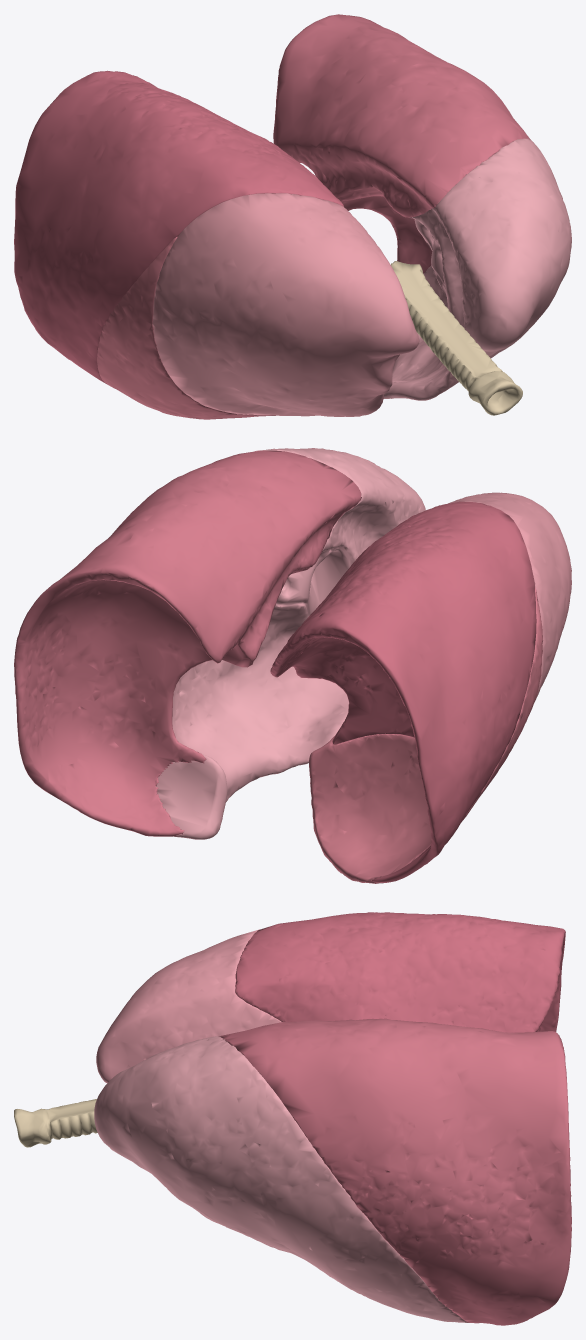
File: lungs.glb
The picture shows the model from 3 angles, top to bottom: view 1: azimuth 30°, elevation 25°; view 2: azimuth 150°, elevation 25°; view 3: azimuth 270°, elevation 25°; orthographic projection. The views are drawn at different scales.
Visible parts, largest first — view 1: Оң өкпе: жоғарғы бөлік, Оң өкпе: төменгі бөлік, Сол өкпе: төменгі бөлік, Сол өкпе: жоғарғы бөлік, Оң өкпе: ортаңғы бөлік, Кеңірдек; view 2: Сол өкпе: төменгі бөлік, Оң өкпе: төменгі бөлік, Сол өкпе: жоғарғы бөлік, Оң өкпе: ортаңғы бөлік, Оң өкпе: жоғарғы бөлік; view 3: Сол өкпе: төменгі бөлік, Сол өкпе: жоғарғы бөлік, Оң өкпе: төменгі бөлік, Оң өкпе: жоғарғы бөлік, Кеңірдек.
Boxes of the visible parts, bbox=[...] form: Оң өкпе: жоғарғы бөлік: bbox=[152, 193, 419, 416]; Оң өкпе: төменгі бөлік: bbox=[14, 70, 343, 384]; Сол өкпе: төменгі бөлік: bbox=[273, 14, 530, 273]; Сол өкпе: жоғарғы бөлік: bbox=[384, 138, 571, 400]; Оң өкпе: ортаңғы бөлік: bbox=[97, 236, 275, 419]; Кеңірдек: bbox=[391, 261, 522, 415]; Сол өкпе: төменгі бөлік: bbox=[14, 450, 361, 836]; Оң өкпе: төменгі бөлік: bbox=[270, 501, 536, 882]; Сол өкпе: жоғарғы бөлік: bbox=[155, 448, 425, 839]; Оң өкпе: ортаңғы бөлік: bbox=[309, 587, 542, 883]; Оң өкпе: жоғарғы бөлік: bbox=[448, 492, 571, 701]; Сол өкпе: төменгі бөлік: bbox=[218, 1018, 571, 1325]; Сол өкпе: жоғарғы бөлік: bbox=[94, 1036, 469, 1322]; Оң өкпе: төменгі бөлік: bbox=[235, 912, 565, 1032]; Оң өкпе: жоғарғы бөлік: bbox=[96, 929, 281, 1083]; Кеңірдек: bbox=[14, 1099, 97, 1147].
Size of the model in its own units: 253 by 181 by 302.
